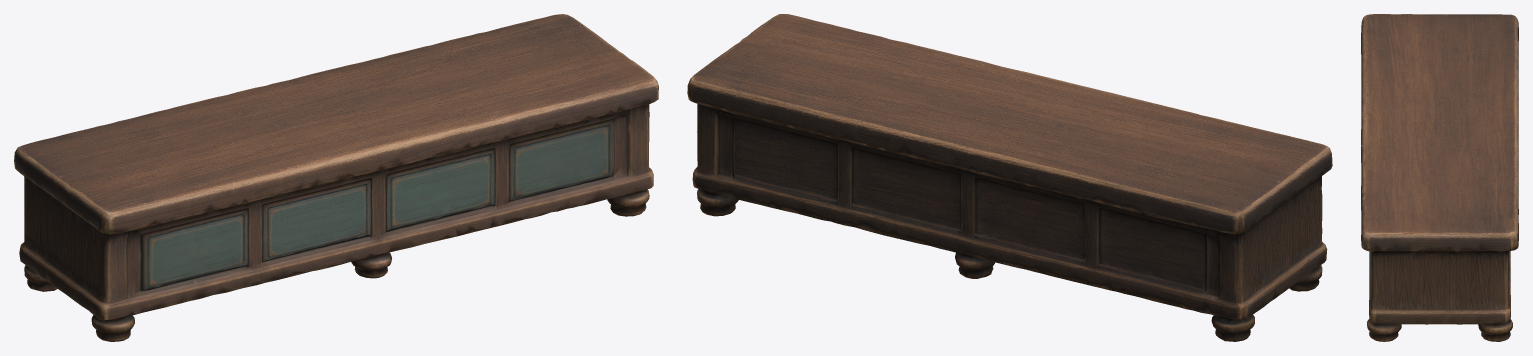
File: Furn_GreenhouseBench.fbx
The picture shows the model from 3 angles, left to right: view 1: azimuth 30°, elevation 25°; view 2: azimuth 150°, elevation 25°; view 3: azimuth 270°, elevation 25°; orthographic projection. The views are drawn at different scales.
Visible parts, largest first — view 1: texture_mapping; view 2: texture_mapping; view 3: texture_mapping.
Part boxes in pixels (x1,y1,x2,y2): texture_mapping: [14, 14, 658, 341]; texture_mapping: [687, 14, 1332, 341]; texture_mapping: [1361, 14, 1518, 341].
Size of the model in its own units: 0.9991 by 0.2997 by 0.2332.
Materials: 1 (1 with a texture image).
